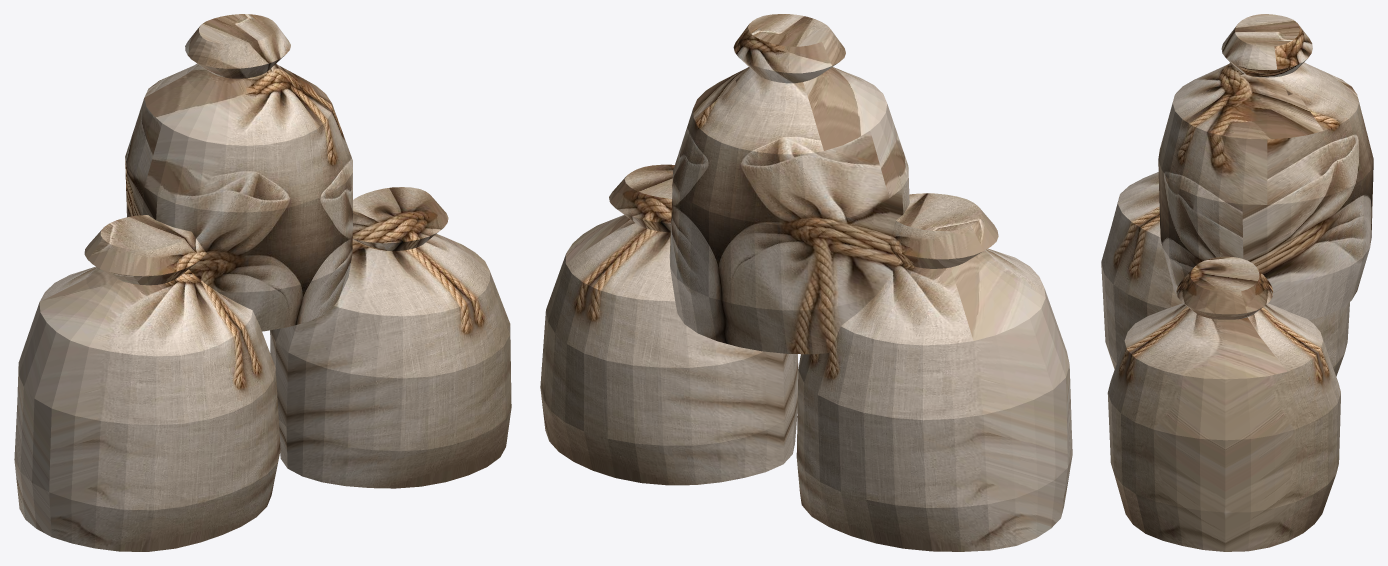
The model's file is v3-kitchen-flour-sacks.glb.
3 views of the same model, side by side, from view 1: azimuth 30°, elevation 25°; view 2: azimuth 150°, elevation 25°; view 3: azimuth 270°, elevation 25° (orthographic). The views are drawn at different scales.
Parts seen in each view (by area): view 1: v3-kitchen-flour-sacks; view 2: v3-kitchen-flour-sacks; view 3: v3-kitchen-flour-sacks.
Boxes of the visible parts, x1,y1,x2,y2 form: v3-kitchen-flour-sacks: (14, 14, 511, 551); v3-kitchen-flour-sacks: (540, 14, 1072, 551); v3-kitchen-flour-sacks: (1101, 14, 1373, 551).
Size of the model in its own units: 1.23 by 1.1 by 0.6503.
Materials: 1 (1 with a texture image).
